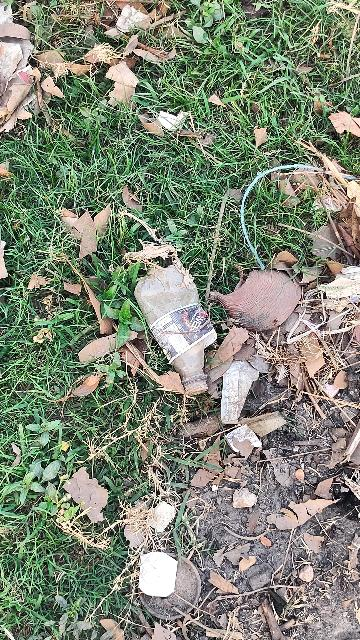bottle: (126, 254, 240, 391)
